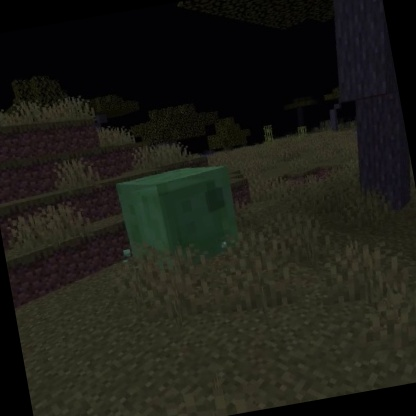slime: (108, 155, 251, 283)
